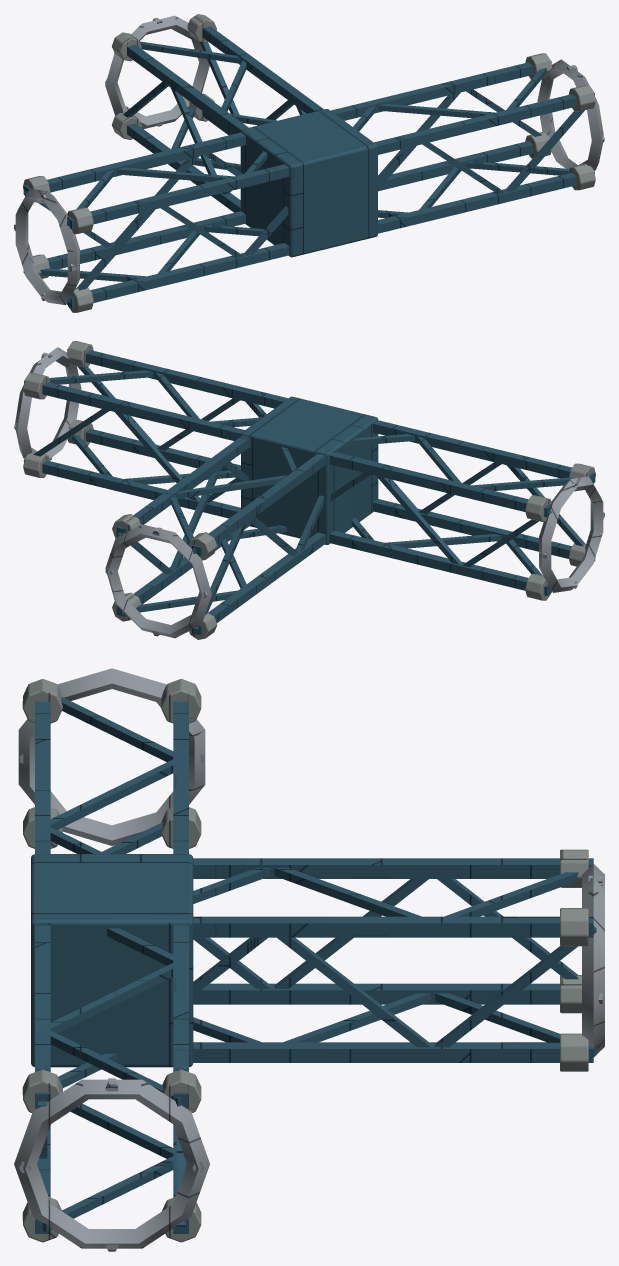
File: truss_tee_lod1.glb
3 renders of one model, top to bottom at view 1: azimuth 30°, elevation 25°; view 2: azimuth 150°, elevation 25°; view 3: azimuth 270°, elevation 25°, orthographic. The views are drawn at different scales.
Visible parts, largest first — view 1: LOD1_Armor, LOD1_BrushedMetal, LOD1_Hull; view 2: LOD1_Armor, LOD1_BrushedMetal, LOD1_Hull; view 3: LOD1_Armor, LOD1_BrushedMetal, LOD1_Hull.
Part boxes in pixels (box(x1,y1,x2,y2)): LOD1_Armor: box(23, 26, 594, 308); LOD1_BrushedMetal: box(14, 15, 604, 305); LOD1_Hull: box(23, 14, 595, 312); LOD1_Armor: box(23, 349, 595, 635); LOD1_BrushedMetal: box(14, 347, 604, 638); LOD1_Hull: box(23, 341, 595, 639); LOD1_Armor: box(31, 696, 596, 1233); LOD1_BrushedMetal: box(14, 668, 604, 1251); LOD1_Hull: box(22, 679, 588, 1242).
Size of the model in its own units: 8.19 by 1.63 by 4.91.
3 materials, 3 textured.
